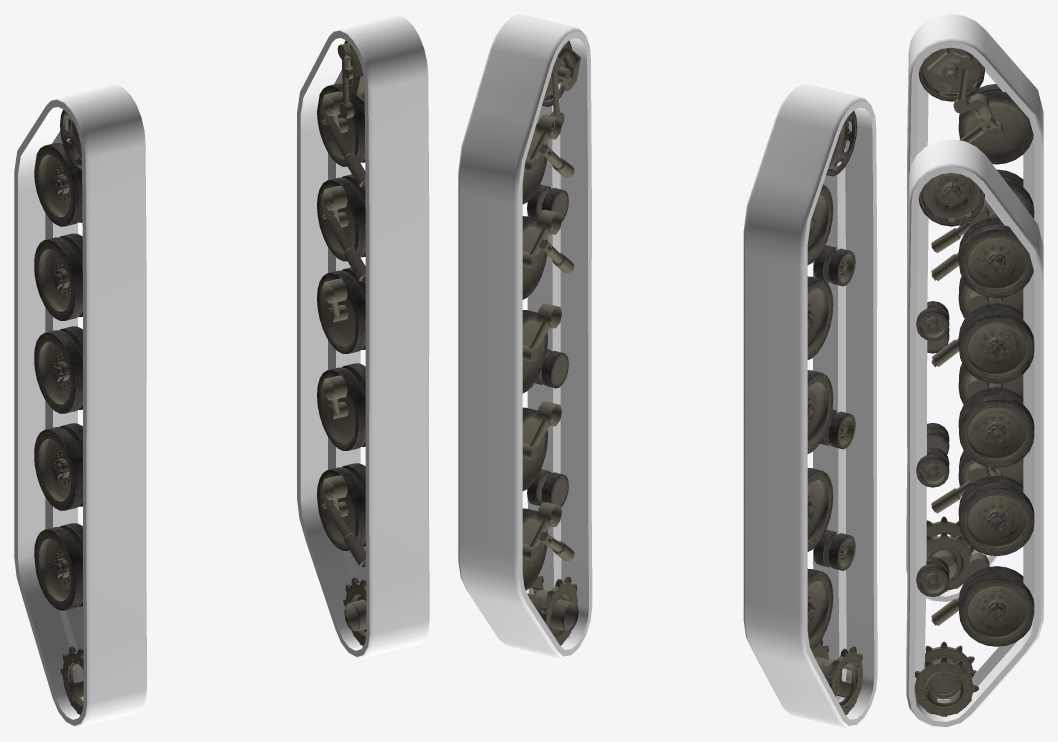
Rendered from Chassis.glb.
3 renders of one model, left to right at view 1: azimuth 30°, elevation 25°; view 2: azimuth 150°, elevation 25°; view 3: azimuth 270°, elevation 25°, orthographic. The views are drawn at different scales.
Visible parts, largest first — view 1: set_1_group_0, set_0_group_0, set_3_group_0, set_2_group_0; view 2: set_1_group_0, set_0_group_0, set_3_group_0, set_2_group_0; view 3: set_3_group_0, set_0_group_0, set_2_group_0, set_1_group_0.
Boxes of the visible parts, <box> form: set_1_group_0: <box>14,83,146,727</box>; set_0_group_0: <box>297,14,429,658</box>; set_3_group_0: <box>317,40,366,645</box>; set_2_group_0: <box>34,109,83,714</box>; set_1_group_0: <box>743,83,877,727</box>; set_0_group_0: <box>458,14,592,658</box>; set_3_group_0: <box>522,41,580,645</box>; set_2_group_0: <box>807,111,862,715</box>; set_3_group_0: <box>914,173,1034,716</box>; set_0_group_0: <box>906,139,1043,727</box>; set_2_group_0: <box>918,47,1034,591</box>; set_1_group_0: <box>906,14,1043,602</box>.
Bounding box in the file's own units: 3.06 × 5.31 × 1.17.
4 materials, 2 textured.
